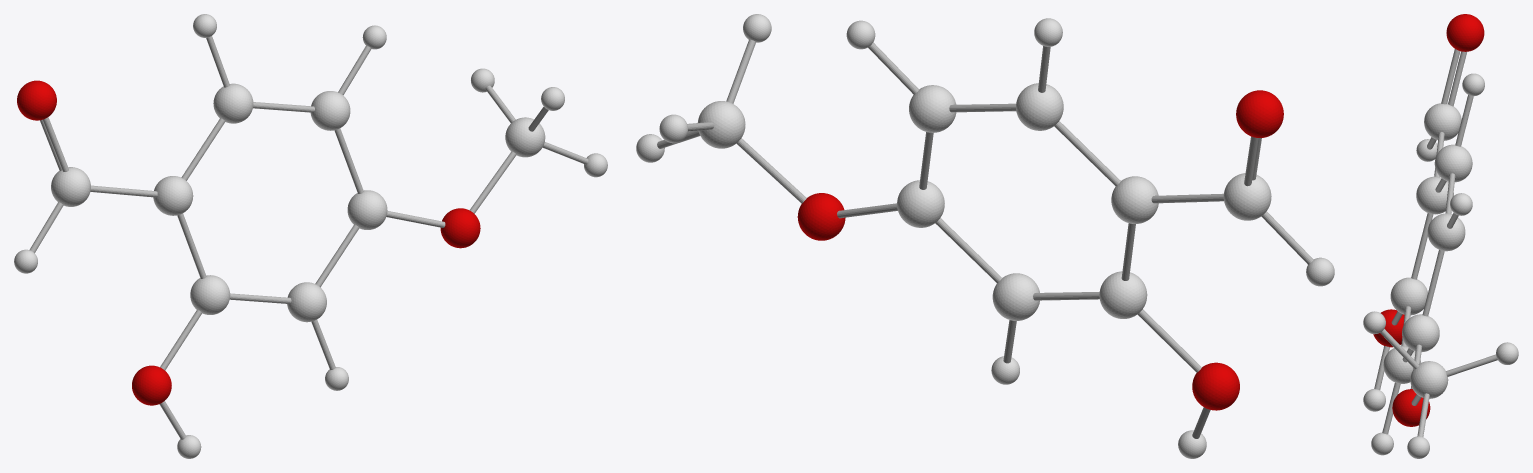
The model's file is COc1ccc_C_O_c_O_c1.glb.
3 views of the same model, side by side, from view 1: azimuth 30°, elevation 25°; view 2: azimuth 150°, elevation 25°; view 3: azimuth 270°, elevation 25° (orthographic). The views are drawn at different scales.
Parts seen in each view (by area): view 1: world; view 2: world; view 3: world.
Part boxes in pixels (x1=…): world: x1=14, y1=14, x2=607, y2=458; world: x1=636, y1=14, x2=1334, y2=458; world: x1=1363, y1=14, x2=1518, y2=458.
Size of the model in its own units: 8.45 by 5.35 by 2.05.
